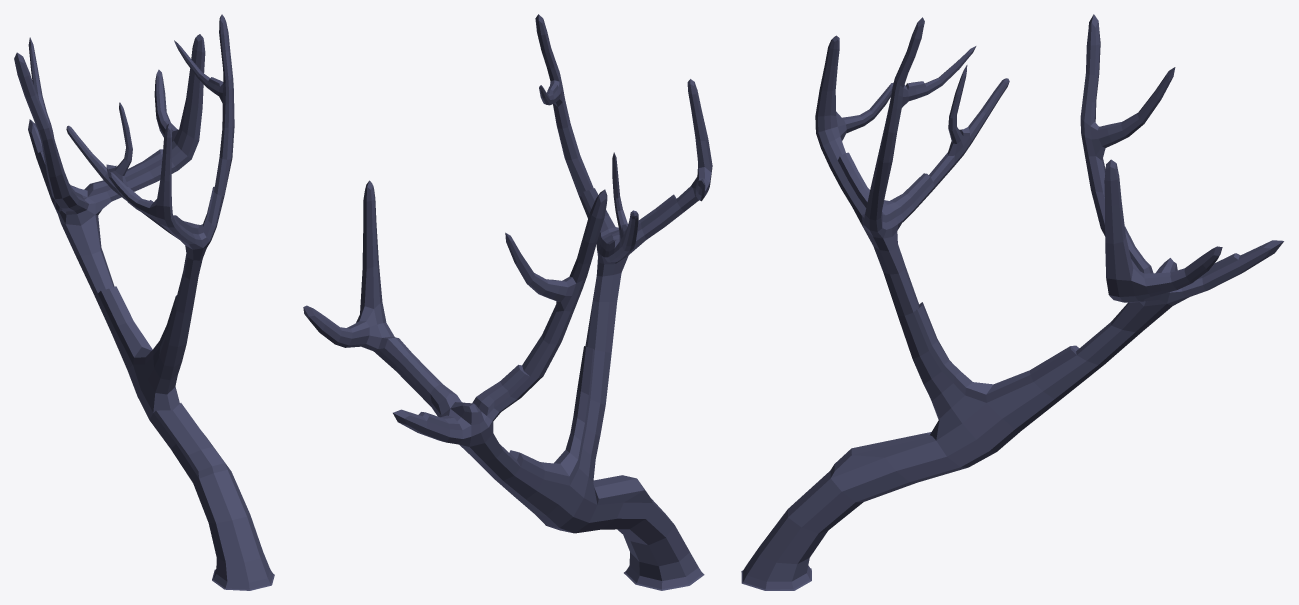
Rendered from Dead_tree_6.fbx.
3 renders of one model, left to right at view 1: azimuth 30°, elevation 25°; view 2: azimuth 150°, elevation 25°; view 3: azimuth 270°, elevation 25°, orthographic. The views are drawn at different scales.
Parts seen in each view (by area): view 1: Dead_tree_6; view 2: Dead_tree_6; view 3: Dead_tree_6.
Part boxes in pixels (x1,y1,x2,y2): Dead_tree_6: (14, 14, 274, 590); Dead_tree_6: (303, 14, 712, 590); Dead_tree_6: (741, 14, 1283, 590).
Size of the model in its own units: 7.76 by 18.74 by 15.83.
